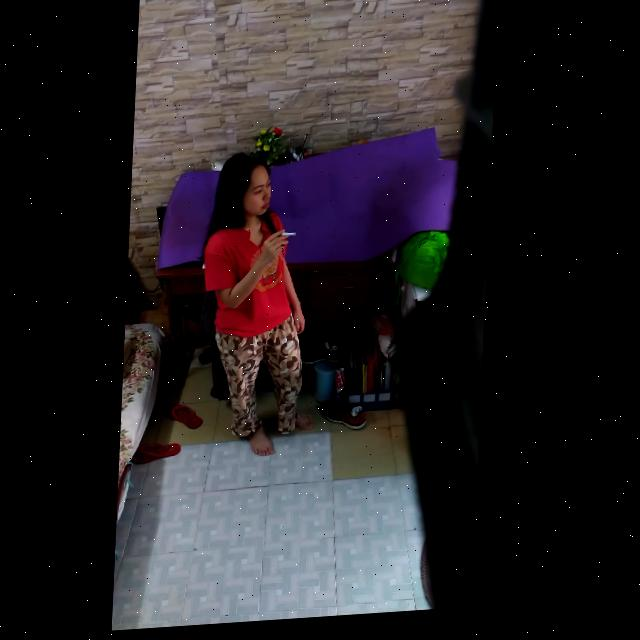cigarette: (285, 236, 299, 240)
